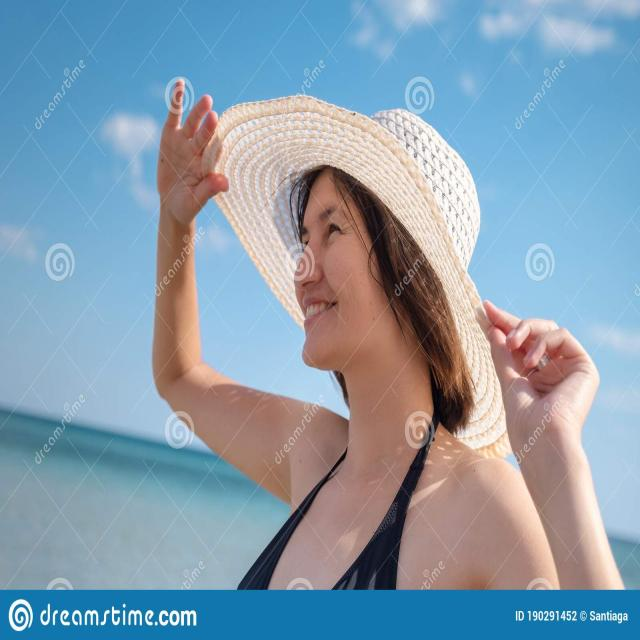hat: (202, 96, 513, 449)
